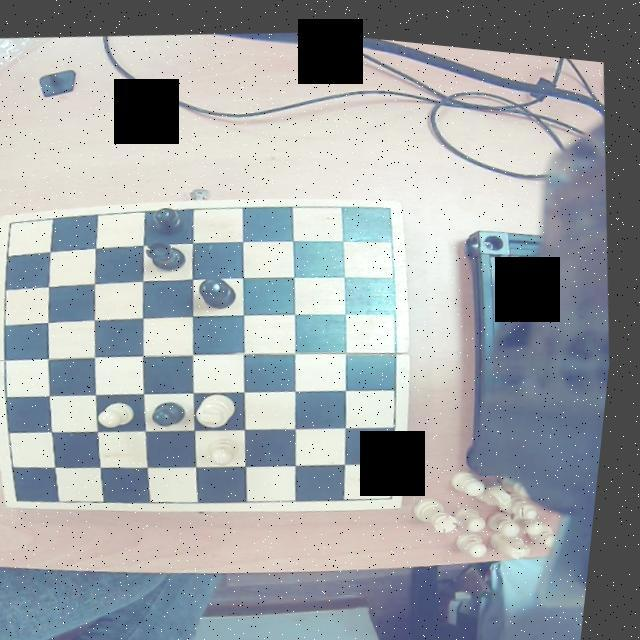chess-table-corners: (376, 189, 404, 215), (388, 472, 414, 498), (14, 486, 46, 506), (2, 214, 28, 237)
